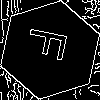F: (25, 25, 78, 65)
